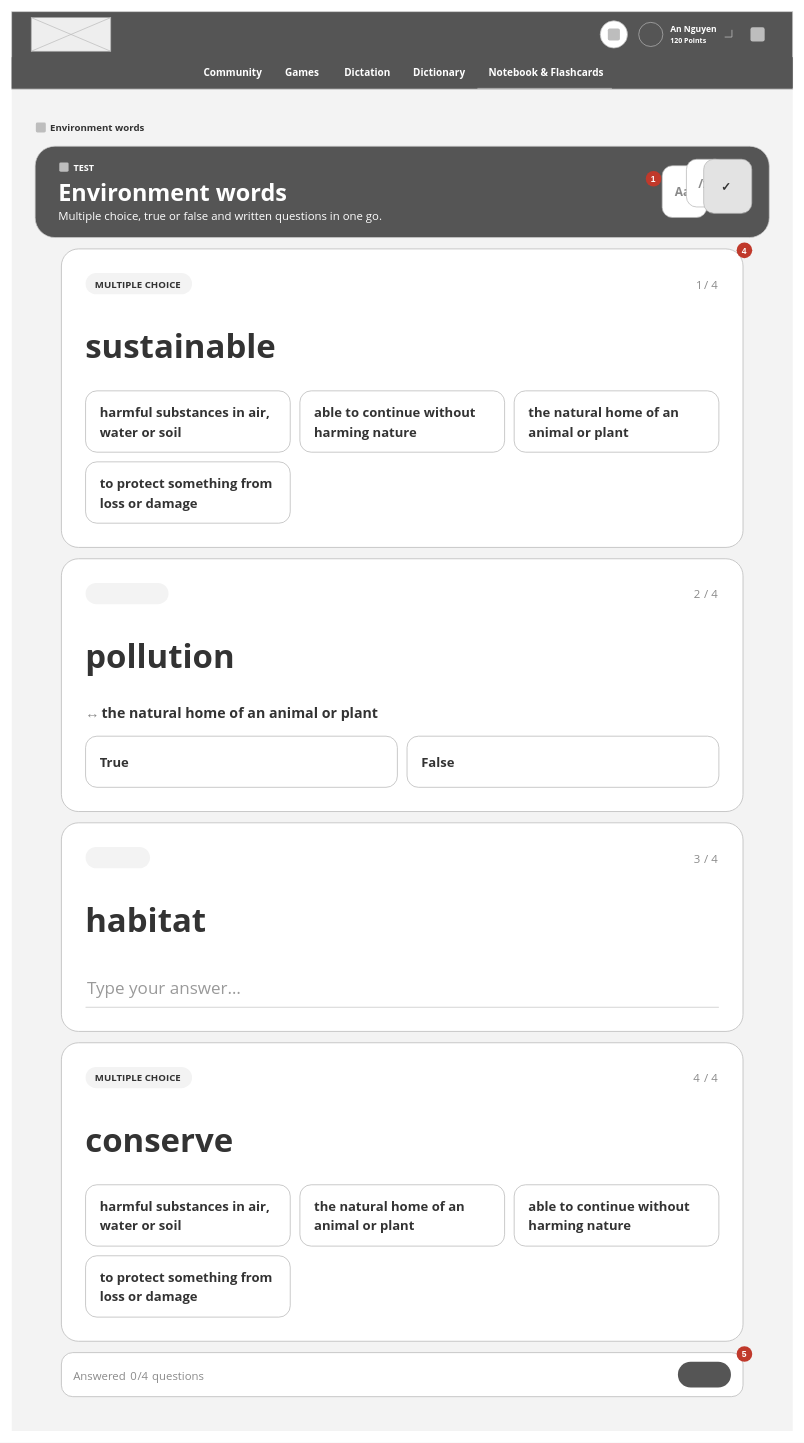
Some shapes in this 804 by 1443 pixel diagram are drawn without their labels. Each missing label, with the box of its shape:
AN: (638, 22, 663, 47)
Submit: (678, 1361, 731, 1387)
TRUE / FALSE: (85, 583, 168, 604)
WRITTEN: (85, 847, 150, 868)
